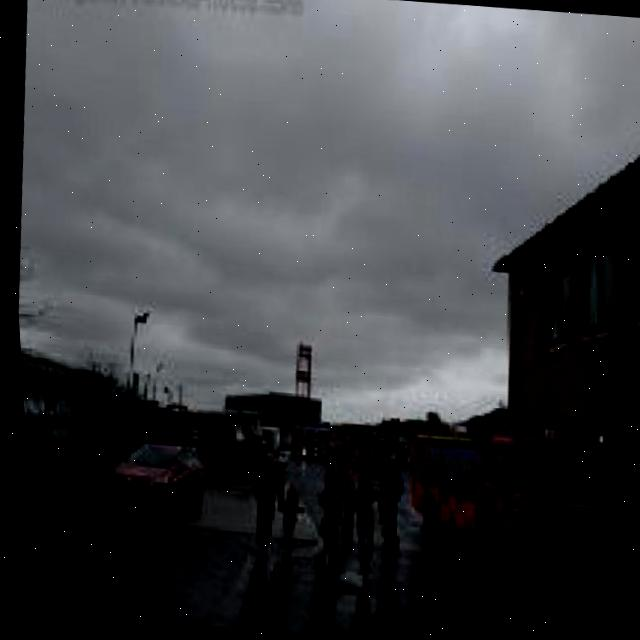emergency: (388, 420, 612, 578), (87, 432, 209, 526)
